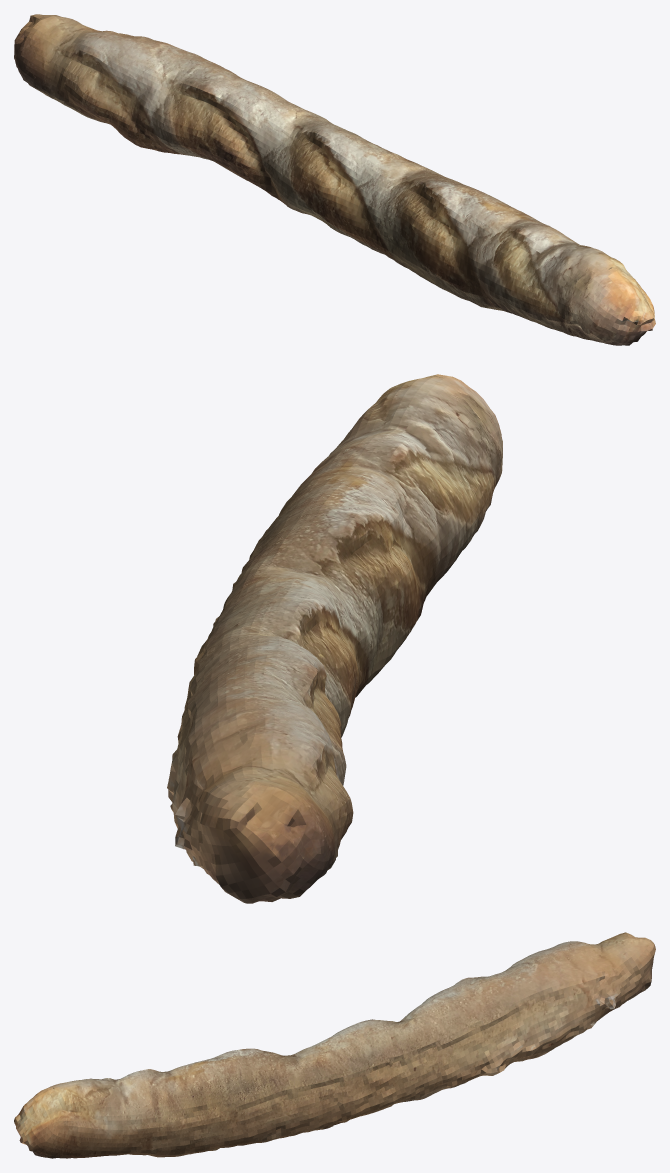
Rendered from baguette_final_ver3.obj.
3 views of the same model, one above another, from view 1: azimuth 30°, elevation 25°; view 2: azimuth 150°, elevation 25°; view 3: azimuth 270°, elevation 25° (orthographic). The views are drawn at different scales.
Visible parts, largest first — view 1: new; view 2: new; view 3: new.
Boxes of the visible parts, <box> form: new: <box>14,14,655,345</box>; new: <box>167,374,502,903</box>; new: <box>14,932,655,1158</box>.
Bounding box in the file's own units: 0.2126 × 0.1028 × 0.4604.
1 material, 1 textured.
